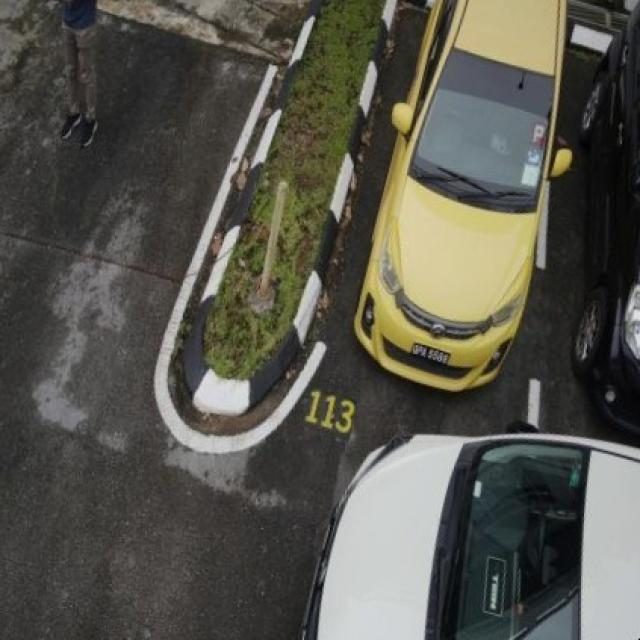Legalparking: (340, 0, 620, 416)
illegalparking: (331, 432, 630, 640)
